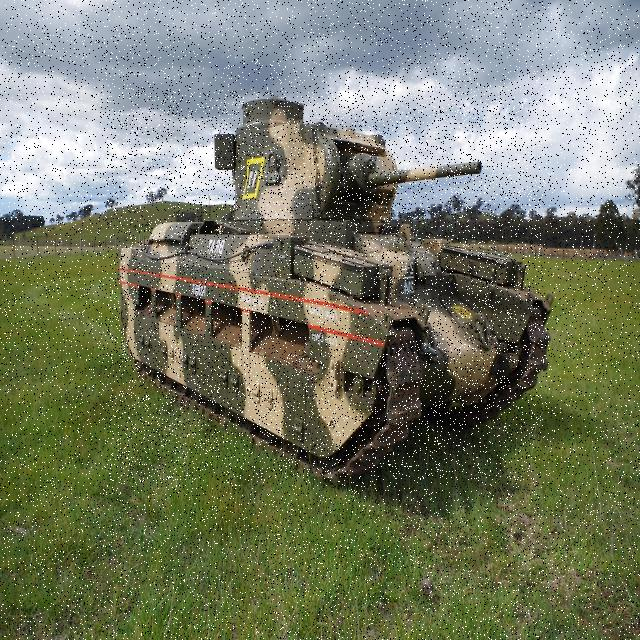MIL_MBT: (107, 91, 543, 480)
